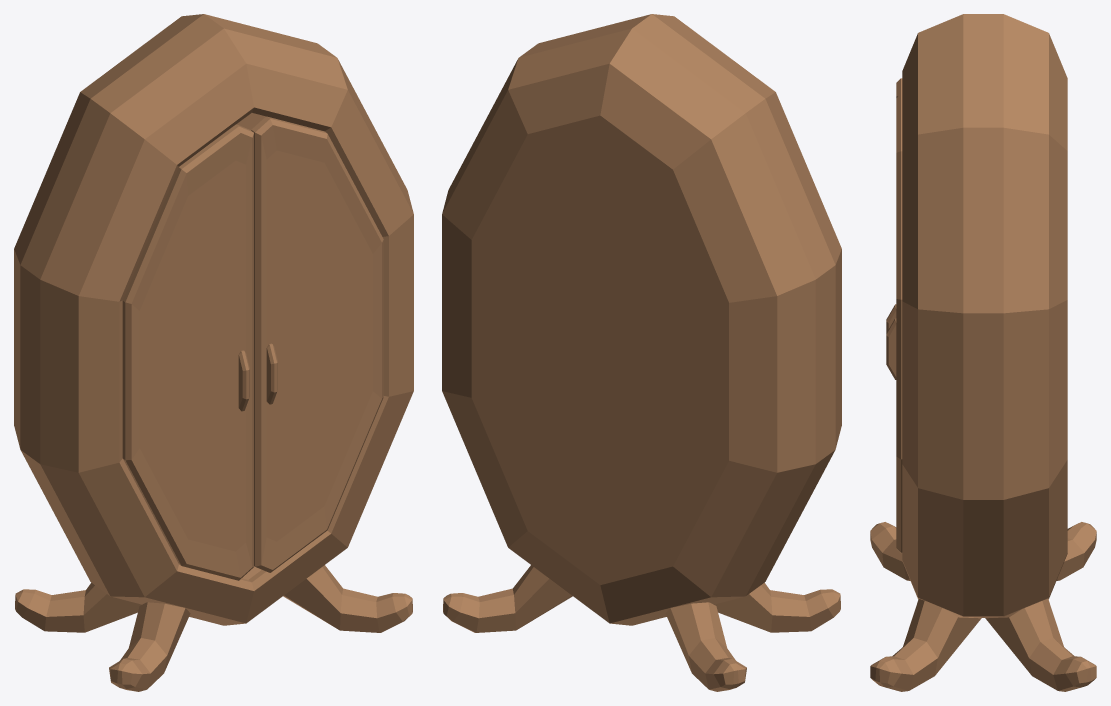
The model's file is Cabinet.fbx.
3 renders of one model, left to right at view 1: azimuth 30°, elevation 25°; view 2: azimuth 150°, elevation 25°; view 3: azimuth 270°, elevation 25°, orthographic.
Visible parts, largest first — view 1: DrinkCabinet, Left Door, Right Door; view 2: DrinkCabinet; view 3: DrinkCabinet, Right Door.
Boxes of the visible parts, bbox=[...] form: DrinkCabinet: bbox=[14, 14, 413, 691]; Left Door: bbox=[122, 124, 253, 580]; Right Door: bbox=[251, 116, 383, 572]; DrinkCabinet: bbox=[442, 14, 841, 691]; DrinkCabinet: bbox=[870, 14, 1096, 691]; Right Door: bbox=[886, 94, 902, 553].
Bounding box in the file's own units: 1.28 × 2.02 × 0.6749.
1 material, 1 textured.
